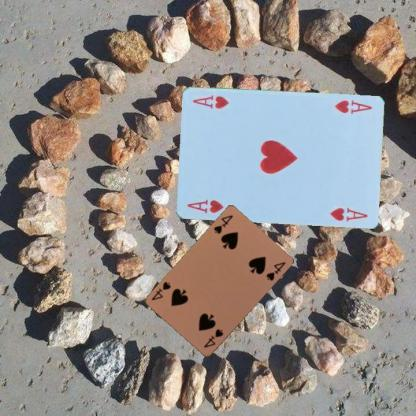4s: (201, 326, 225, 349), (211, 213, 234, 236)
Ah: (332, 97, 373, 115), (184, 197, 224, 215)
